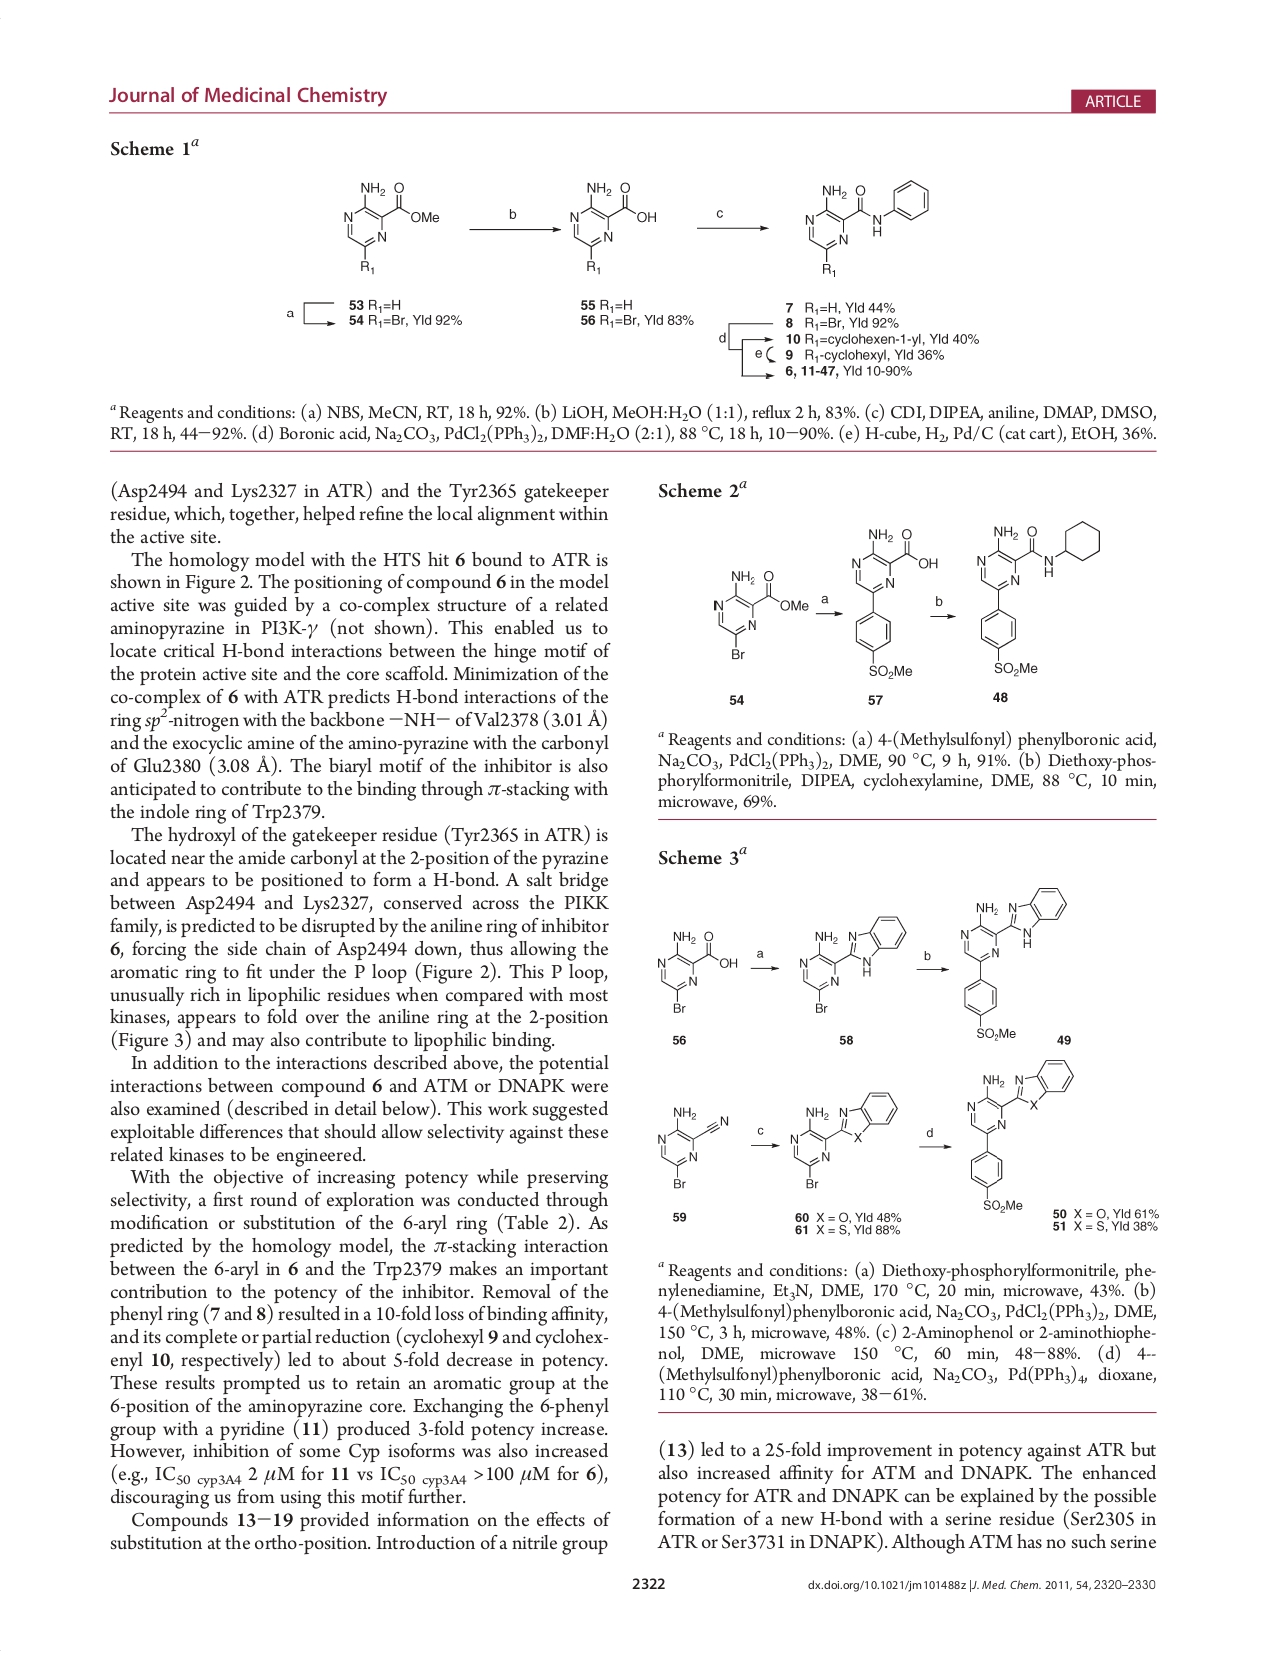exist_molecular: (973, 516, 1105, 678), (965, 1053, 1076, 1216), (957, 884, 1067, 1040), (848, 524, 939, 680), (802, 176, 931, 277), (786, 1085, 898, 1193), (795, 912, 910, 1016), (340, 172, 440, 277), (705, 567, 813, 664), (567, 180, 660, 277), (652, 1092, 734, 1193), (654, 926, 741, 1016)
